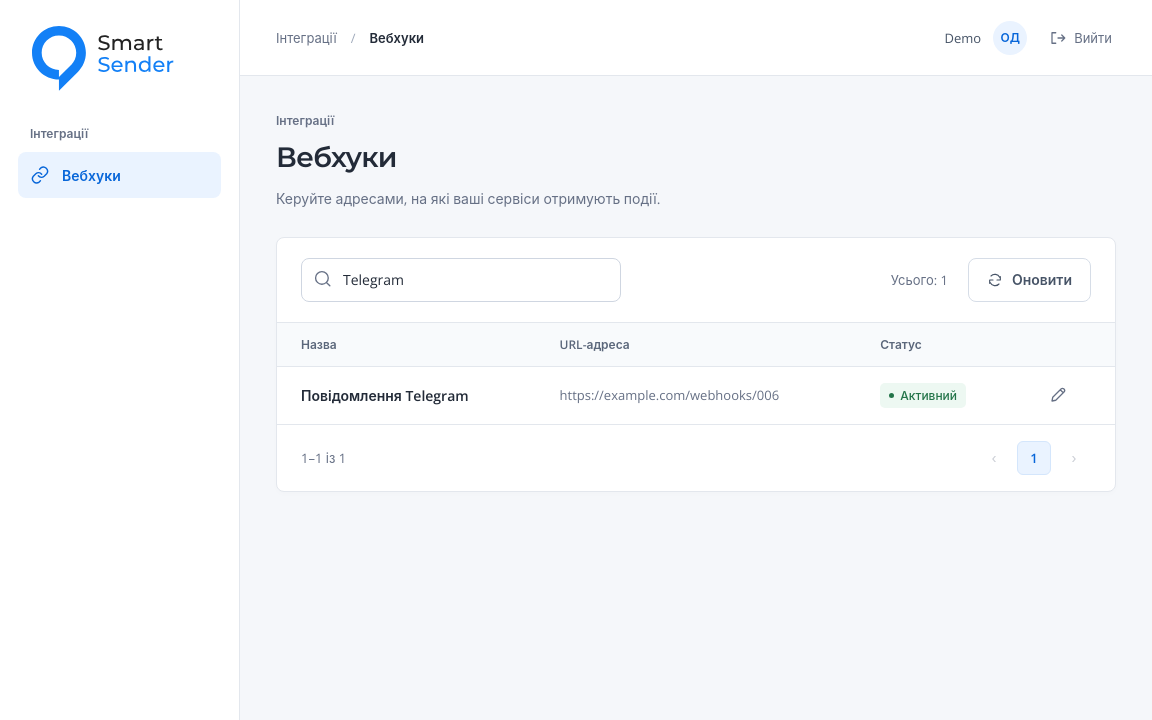
Scenario: EditWebhookActor component › returns to the filtered list from navigation state after save
This screenshot has width=1152, height=720.
Click the link named "Редагувати: Повідомлення Telegram": (1058, 395) [1049,386,1067,404]
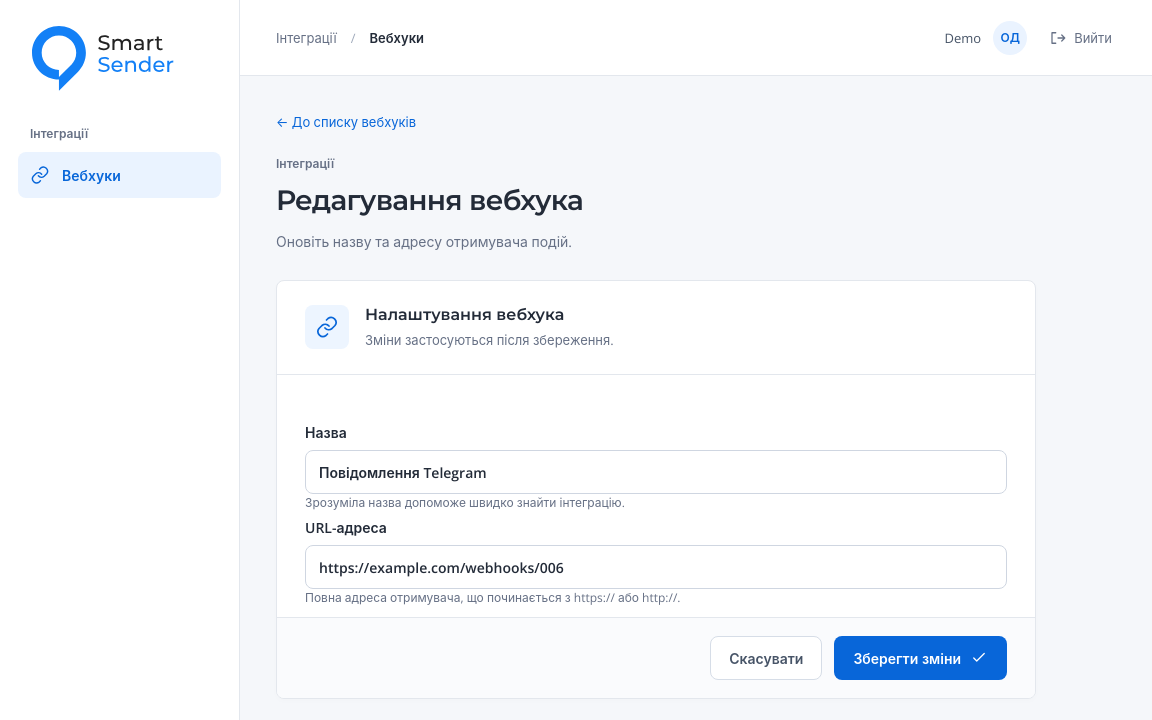
Expected: the field labelled "Назва Зрозуміла назва допоможе швидко знайти інтеграцію." is shown, [305,450,1007,494]
Click the button "Зберегти зміни": (921, 658) [834,636,1007,680]
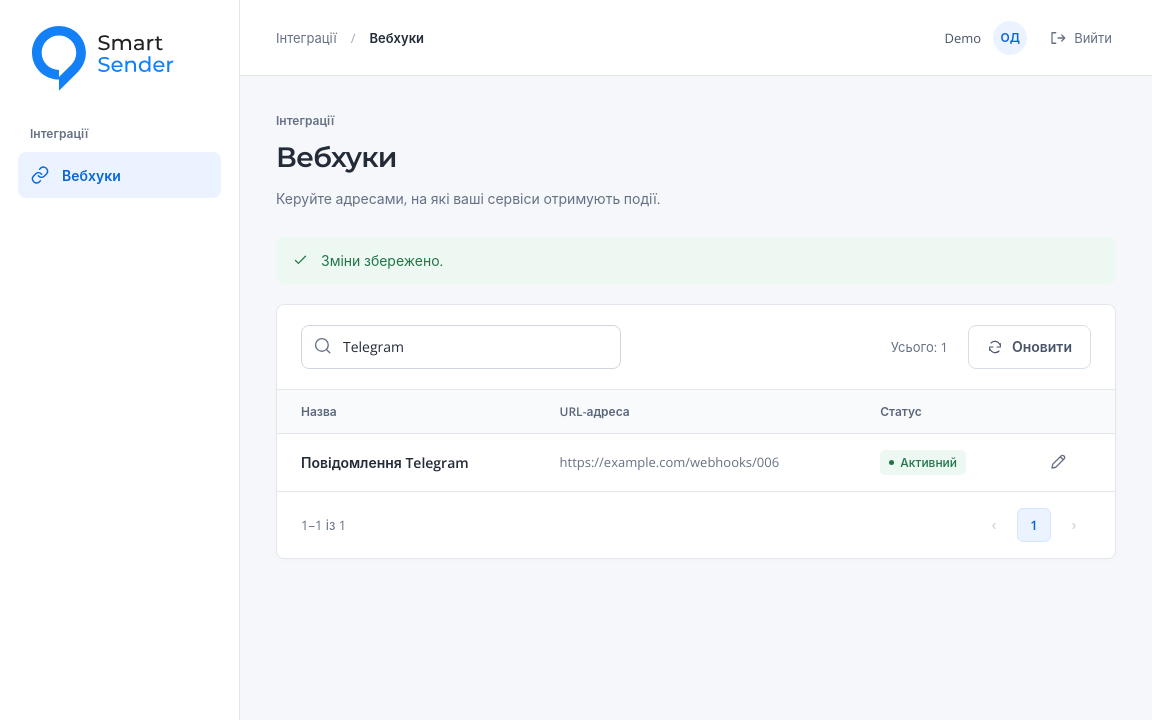
Expected: the search field named "Пошук за назвою" holds "Telegram", [343,326,608,367]
Expected: the link "Повідомлення Telegram" is shown, [301,453,469,472]
